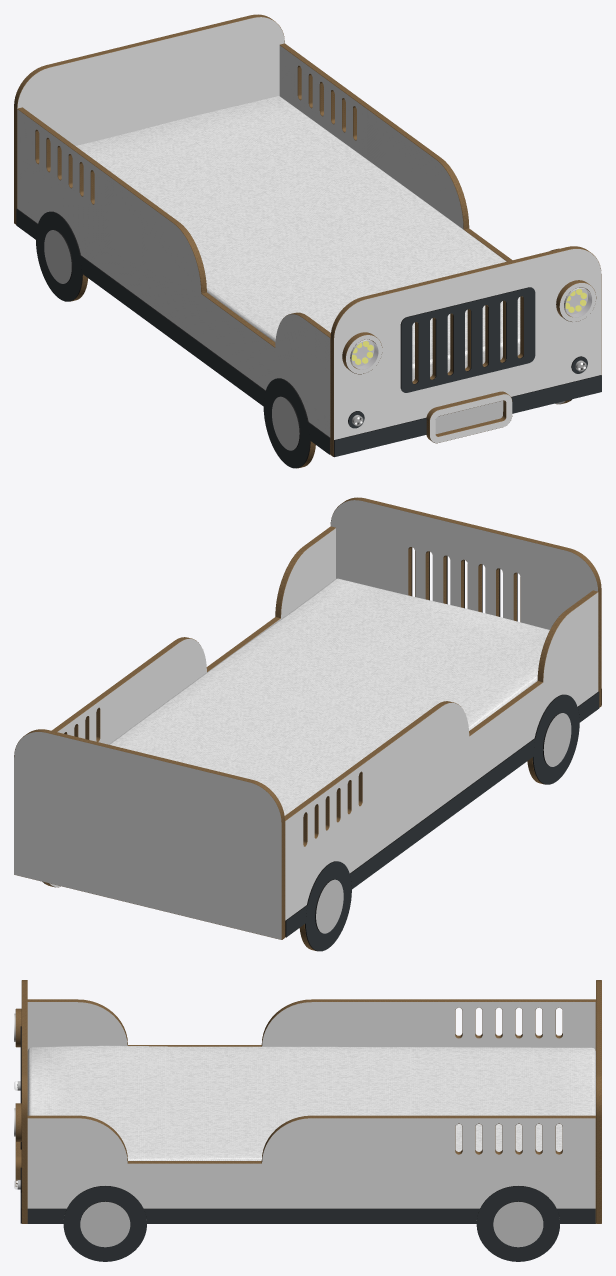
Rendered from Bed170x80.glb.
The picture shows the model from 3 angles, top to bottom: view 1: azimuth 30°, elevation 25°; view 2: azimuth 150°, elevation 25°; view 3: azimuth 270°, elevation 25°; orthographic projection. The views are drawn at different scales.
Parts seen in each view (by area): view 1: Bed170x80; view 2: Bed170x80; view 3: Bed170x80.
Boxes of the visible parts, x1,y1,x2,y2 form: Bed170x80: [14, 14, 601, 468]; Bed170x80: [14, 497, 601, 951]; Bed170x80: [14, 980, 601, 1261].
Bounding box in the file's own units: 0.852 × 0.575 × 1.76.
Materials: 17 (4 with a texture image).
